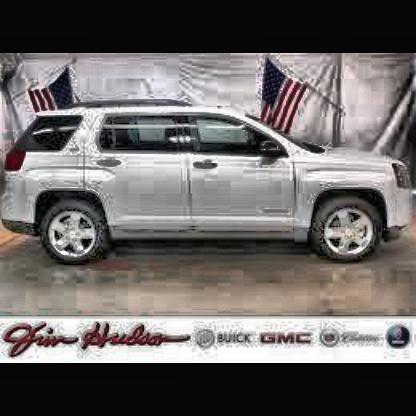GMC Terrain SUV 2012: (2, 98, 416, 264)
